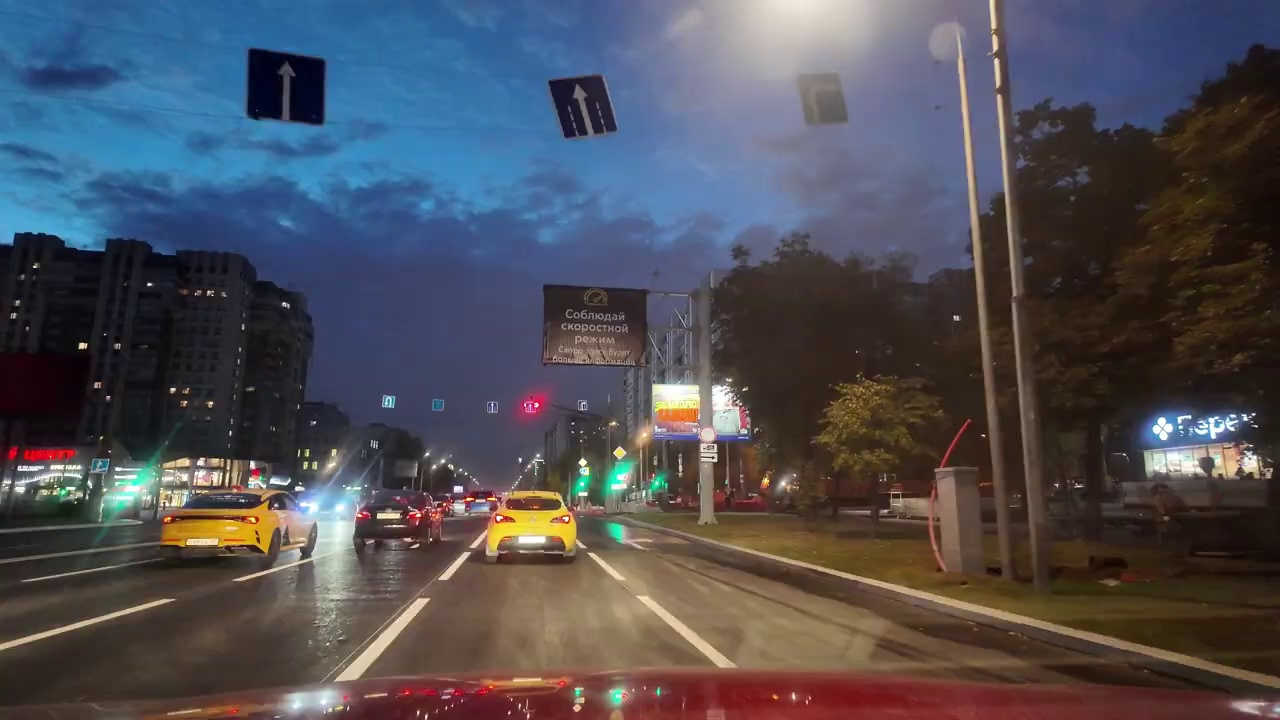acesa: (518, 392, 550, 423)
